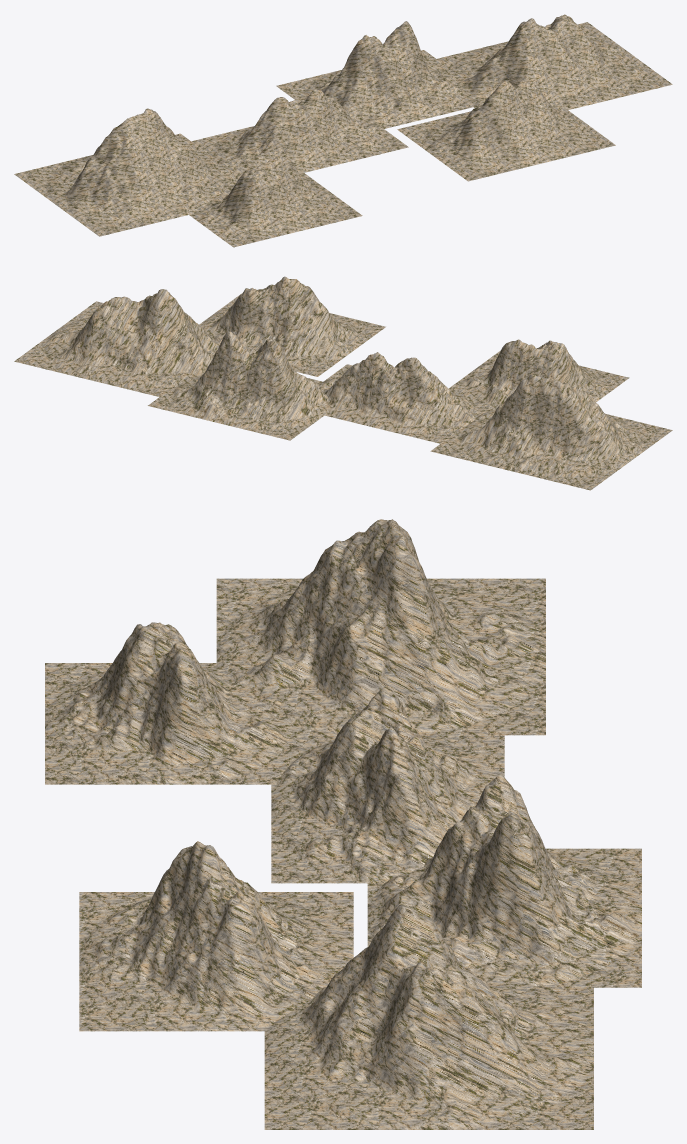
The model's file is mountains.glb.
The picture shows the model from 3 angles, top to bottom: view 1: azimuth 30°, elevation 25°; view 2: azimuth 150°, elevation 25°; view 3: azimuth 270°, elevation 25°; orthographic projection. The views are drawn at different scales.
Parts seen in each view (by area): view 1: coast_background_island_4, coast_background_island_5, coast_background_island_1, coast_background_island_3, coast_background_island_2, coast_background_island_0; view 2: coast_background_island_4, coast_background_island_5, coast_background_island_3, coast_background_island_2, coast_background_island_1, coast_background_island_0; view 3: coast_background_island_5, coast_background_island_4, coast_background_island_1, coast_background_island_3, coast_background_island_2, coast_background_island_0.
Boxes of the visible parts, box(x1,y1,x2,y2) form: coast_background_island_4: box(14, 108, 239, 236); coast_background_island_5: box(427, 14, 672, 110); coast_background_island_1: box(397, 80, 615, 181); coast_background_island_3: box(276, 21, 478, 128); coast_background_island_2: box(188, 89, 408, 178); coast_background_island_0: box(189, 156, 362, 247); coast_background_island_4: box(430, 374, 672, 490); coast_background_island_5: box(14, 289, 220, 400); coast_background_island_3: box(148, 331, 328, 440); coast_background_island_2: box(319, 352, 495, 444); coast_background_island_1: box(199, 276, 385, 376); coast_background_island_0: box(448, 339, 629, 405); coast_background_island_5: box(264, 904, 593, 1129); coast_background_island_4: box(216, 519, 545, 735); coast_background_island_1: box(79, 841, 353, 1031); coast_background_island_3: box(367, 773, 641, 987); coast_background_island_2: box(271, 687, 504, 883); coast_background_island_0: box(45, 622, 291, 784).
Bounding box in the file's own units: 190 × 21.46 × 87.
1 material, 1 textured.
